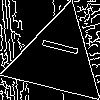I: (32, 33, 80, 59)
